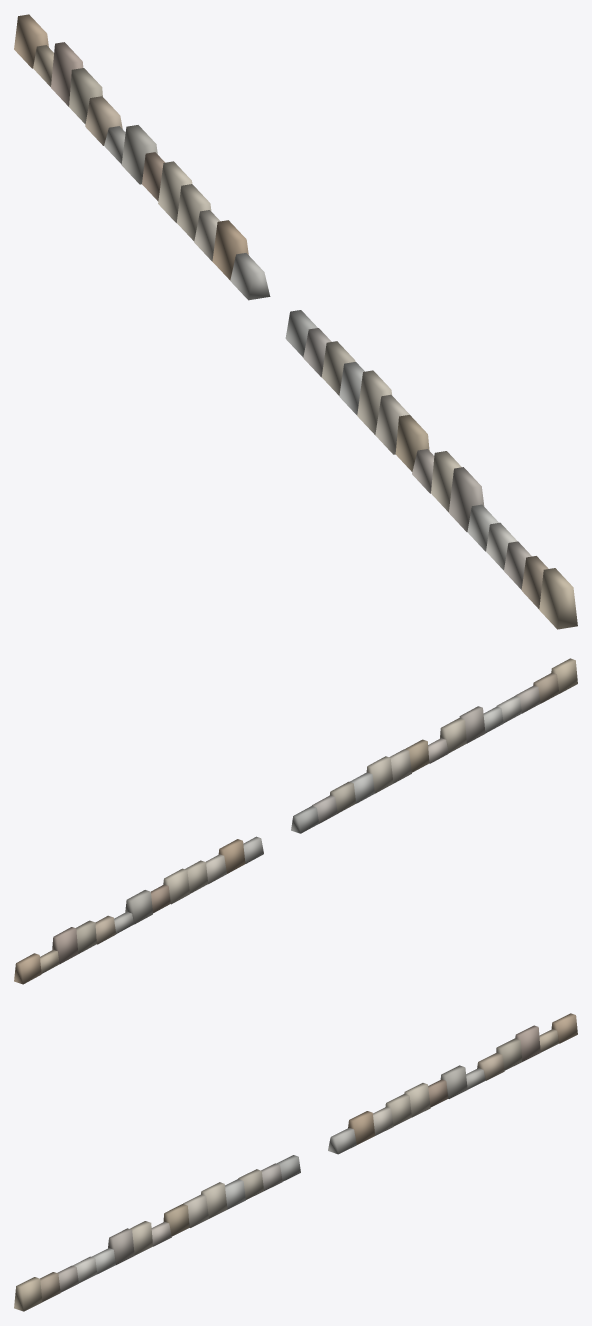
The model's file is farm_18_15_collision.glb.
The picture shows the model from 3 angles, top to bottom: view 1: azimuth 30°, elevation 25°; view 2: azimuth 150°, elevation 25°; view 3: azimuth 330°, elevation 25°; orthographic projection. The views are drawn at different scales.
Parts seen in each view (by area): view 1: geometry_0; view 2: geometry_0; view 3: geometry_0.
Boxes of the visible parts, x1,y1,x2,y2 form: geometry_0: (14, 14, 577, 629); geometry_0: (14, 658, 577, 984); geometry_0: (14, 1013, 577, 1311).
Bounding box in the file's own units: 8.21 × 2.13 × 47.49.
